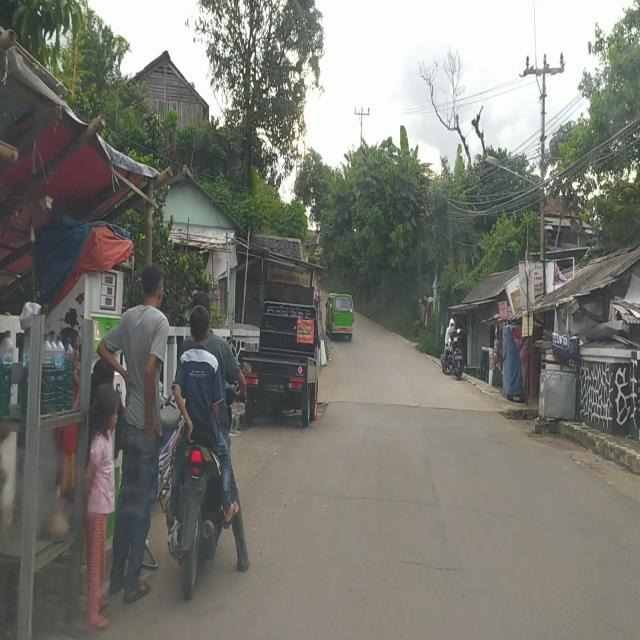Sewer Cover: (280, 486, 596, 534), (379, 554, 470, 578)
